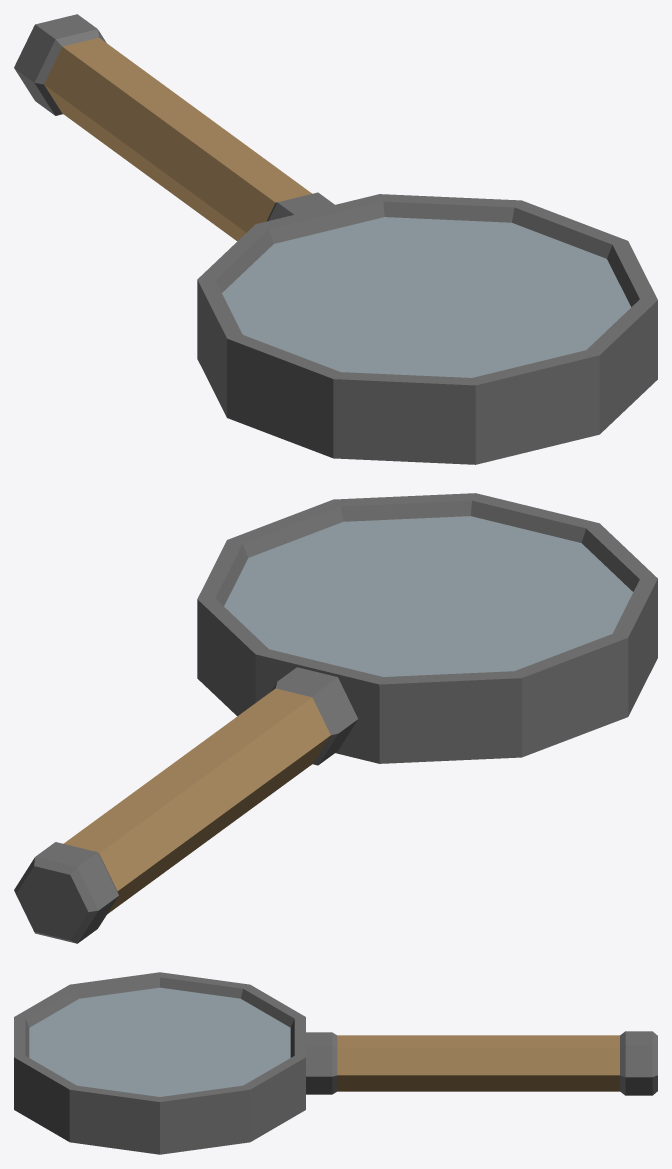
The model's file is glass.fbx.
3 views of the same model, one above another, from view 1: azimuth 30°, elevation 25°; view 2: azimuth 150°, elevation 25°; view 3: azimuth 270°, elevation 25° (orthographic). The views are drawn at different scales.
Visible parts, largest first — view 1: Magnifier; view 2: Magnifier; view 3: Magnifier.
Part boxes in pixels (<box>): Magnifier: <box>14,14,657,464</box>; Magnifier: <box>14,493,657,943</box>; Magnifier: <box>14,972,657,1154</box>.
Size of the model in its own units: 12.61 by 2.39 by 26.43.
